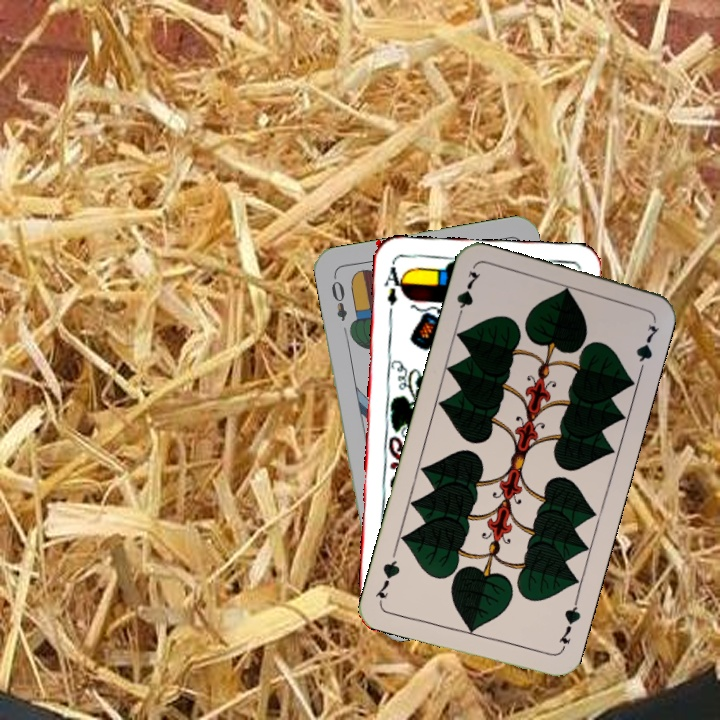EA: (380, 260, 407, 319)
EO: (327, 272, 350, 324)
G7: (452, 267, 484, 324), (554, 596, 584, 654)
